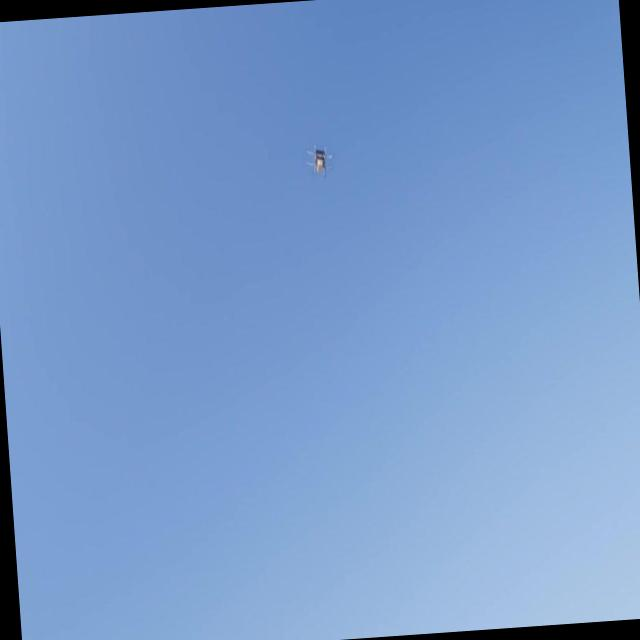drone: (302, 141, 335, 181)
